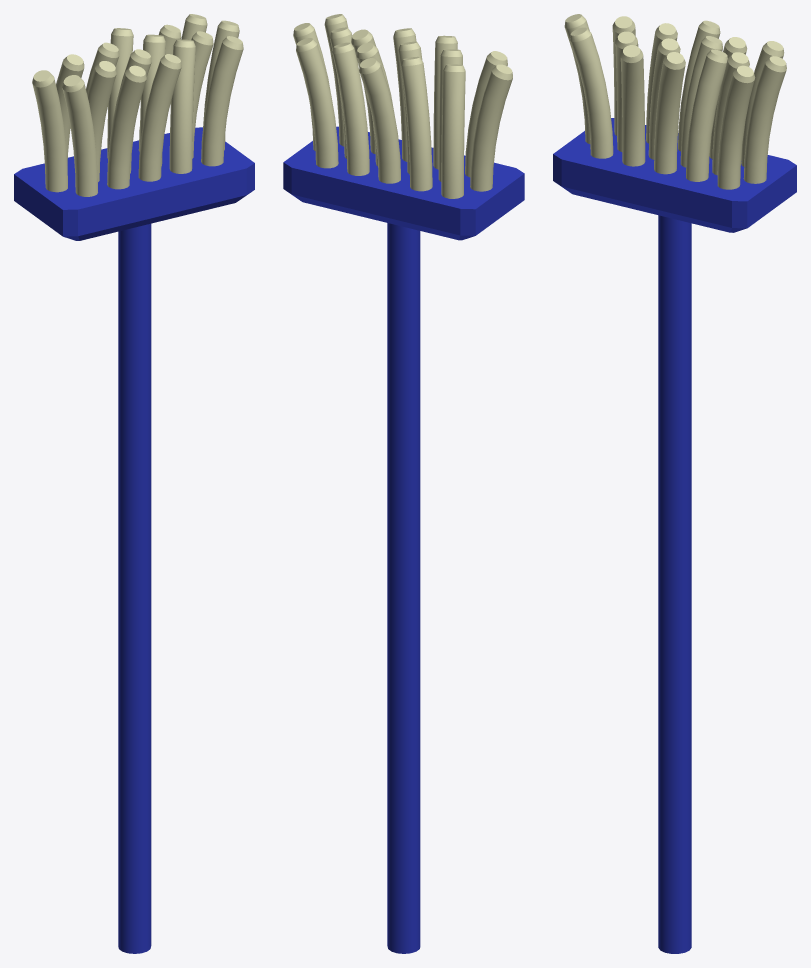
Rendered from Mop.FBX.
The picture shows the model from 3 angles, left to right: view 1: azimuth 30°, elevation 25°; view 2: azimuth 150°, elevation 25°; view 3: azimuth 330°, elevation 25°; orthographic projection.
Visible parts, largest first — view 1: Box001; view 2: Box001; view 3: Box001.
Boxes of the visible parts, bbox=[...] form: Box001: bbox=[14, 14, 254, 953]; Box001: bbox=[283, 14, 524, 953]; Box001: bbox=[553, 14, 796, 953].
Size of the model in its own units: 35.04 by 143 by 16.26.
